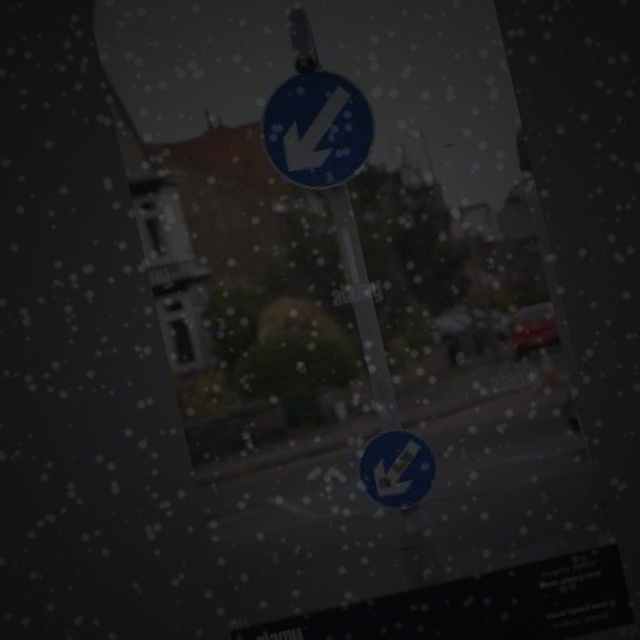Compulsory_Keep_Left: (249, 58, 387, 200)
